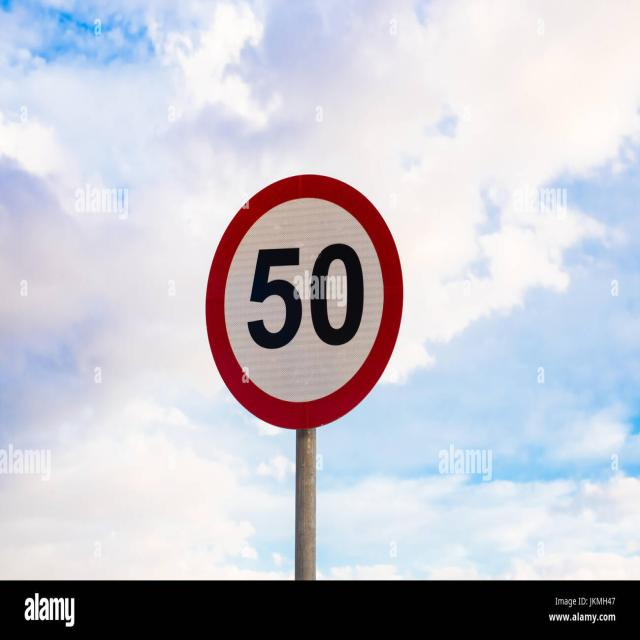speed_50: (204, 176, 403, 427)
